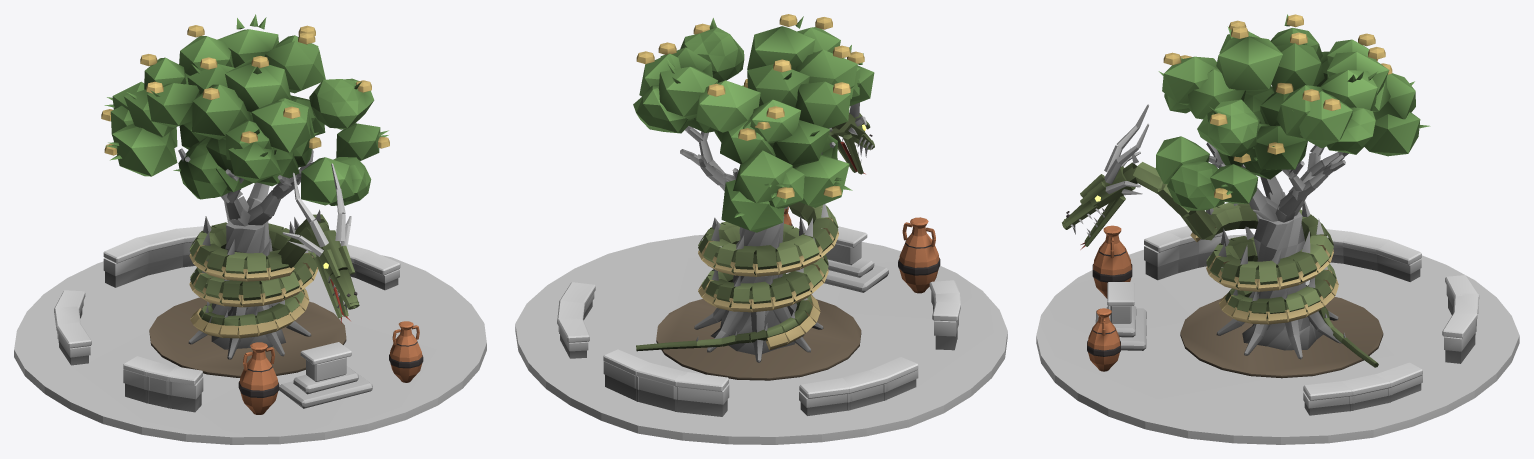
The model's file is hesperides-tree-l1.glb.
The picture shows the model from 3 angles, left to right: view 1: azimuth 30°, elevation 25°; view 2: azimuth 150°, elevation 25°; view 3: azimuth 270°, elevation 25°; orthographic projection. The views are drawn at different scales.
Parts seen in each view (by area): view 1: hesperides-tree-l1; view 2: hesperides-tree-l1; view 3: hesperides-tree-l1.
Part boxes in pixels (box(x1,y1,x2,y2)): hesperides-tree-l1: box(14, 14, 486, 444); hesperides-tree-l1: box(515, 14, 1007, 444); hesperides-tree-l1: box(1036, 14, 1519, 444).
Bounding box in the file's own units: 1.5 × 1.07 × 1.51.
